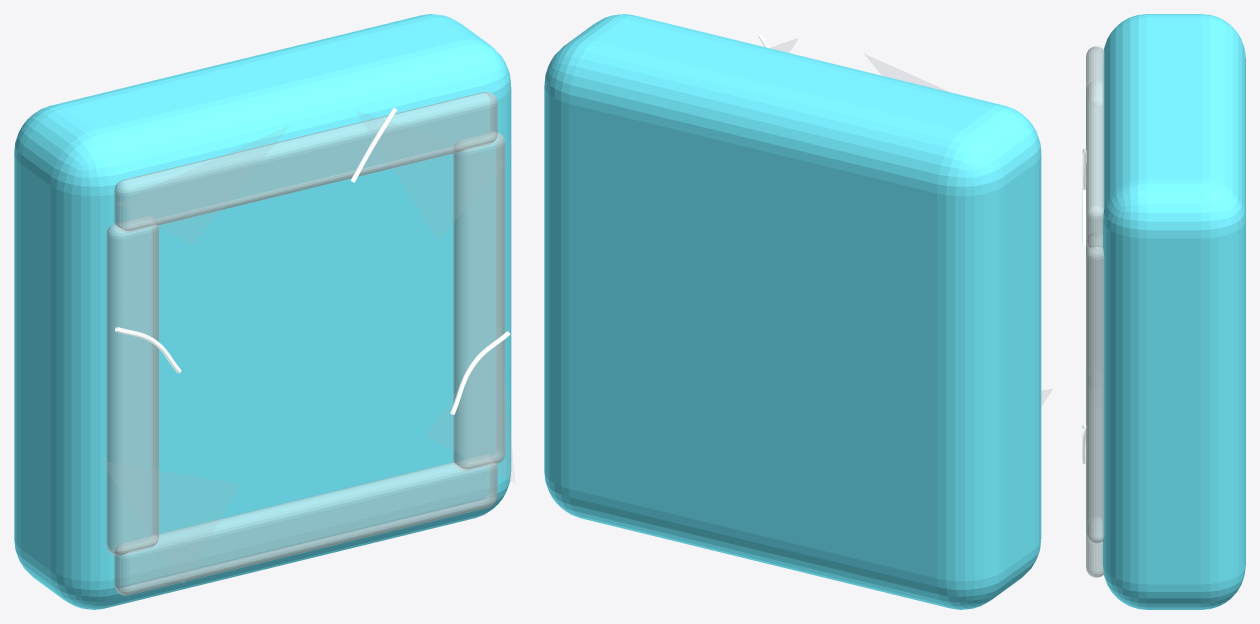
File: ice-face-cube-shell.glb
3 renders of one model, left to right at view 1: azimuth 30°, elevation 25°; view 2: azimuth 150°, elevation 25°; view 3: azimuth 270°, elevation 25°, orthographic. The views are drawn at different scales.
Visible parts, largest first — view 1: Face-cube optical shell, Bottom frost, Top frost, Left frost, Right frost, Ice facet 3, Ice facet 2, Ice facet 1, Ice facet 4; view 2: Face-cube optical shell; view 3: Face-cube optical shell, Right frost, Top frost, Bottom frost, Left frost.
Boxes of the visible parts, box(x1,y1,x2,y2) form: Face-cube optical shell: box(14, 14, 511, 609); Bottom frost: box(114, 454, 497, 595); Top frost: box(114, 92, 497, 232); Left frost: box(106, 216, 158, 555); Right frost: box(453, 132, 505, 470); Ice facet 3: box(101, 461, 240, 583); Ice facet 2: box(356, 111, 507, 239); Ice facet 1: box(116, 127, 287, 244); Ice facet 4: box(426, 330, 514, 482); Face-cube optical shell: box(544, 14, 1041, 609); Face-cube optical shell: box(1103, 14, 1245, 609); Right frost: box(1086, 232, 1104, 543); Top frost: box(1086, 46, 1104, 251); Bottom frost: box(1086, 517, 1103, 577); Left frost: box(1087, 81, 1102, 106).
Bounding box in the file's own units: 2.96 × 2.96 × 1.03.
